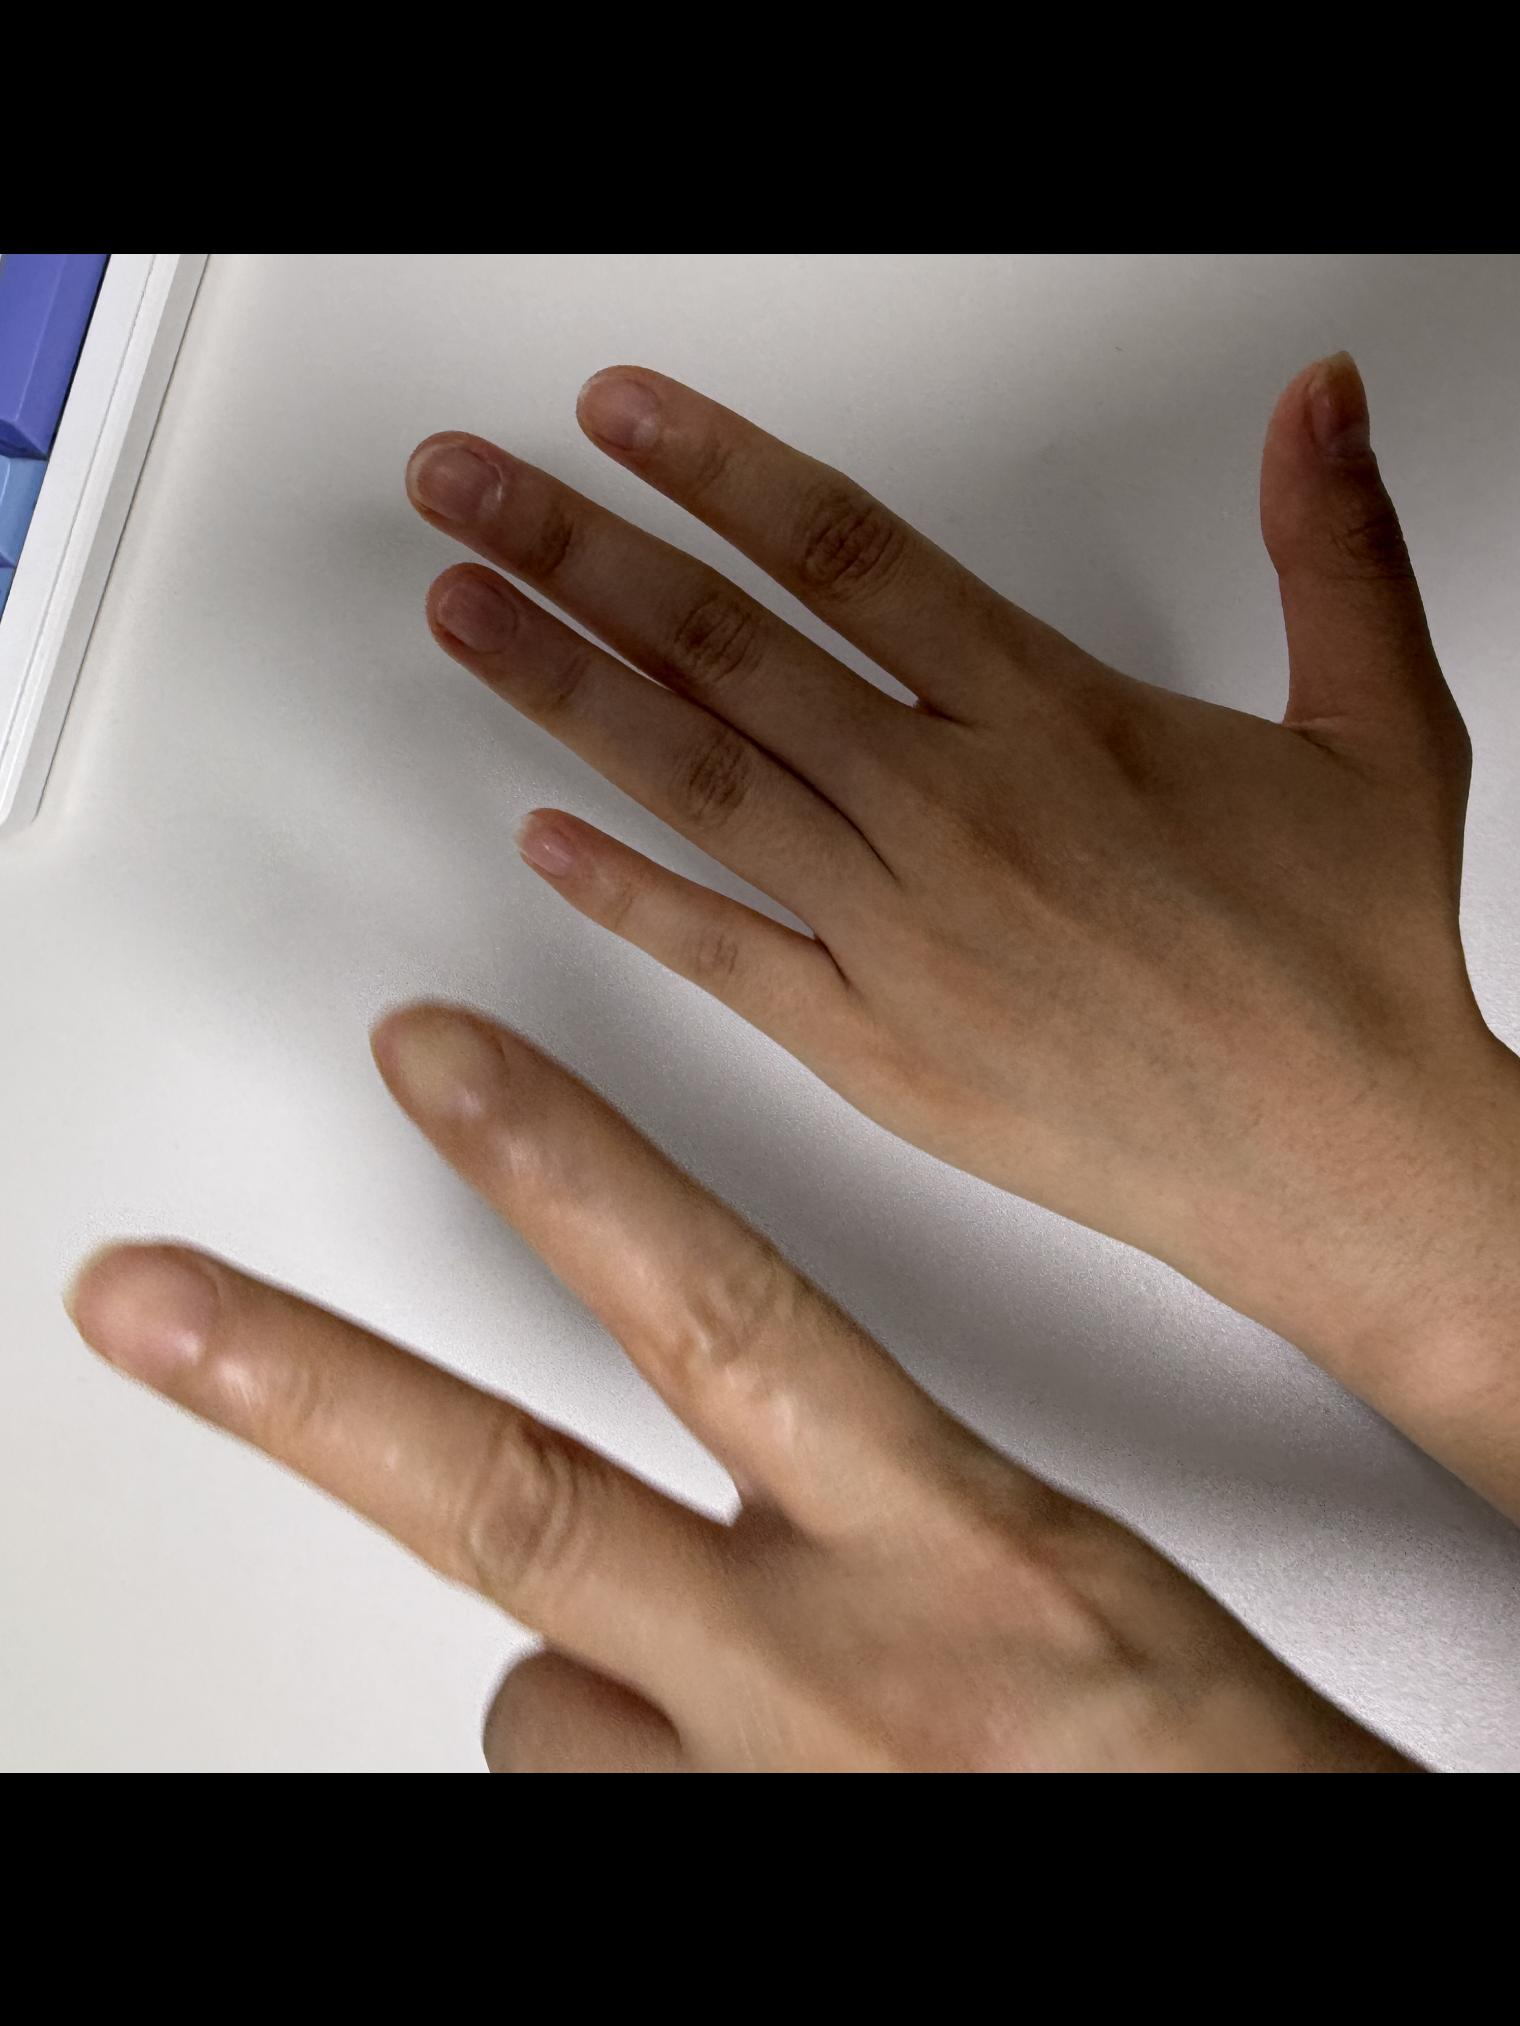v: (2, 993, 1520, 1774)
